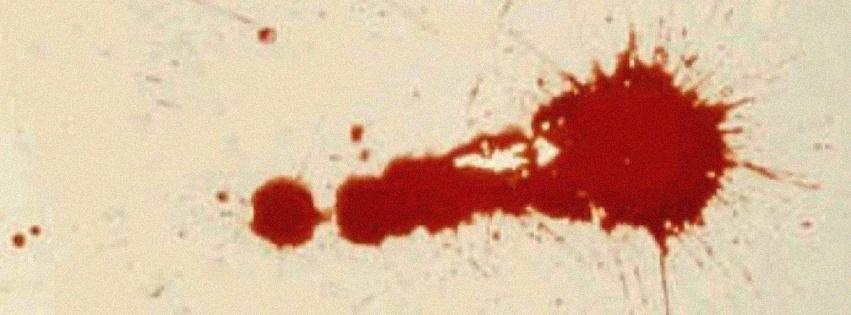Fire: (335, 31, 742, 265), (247, 174, 332, 248)
